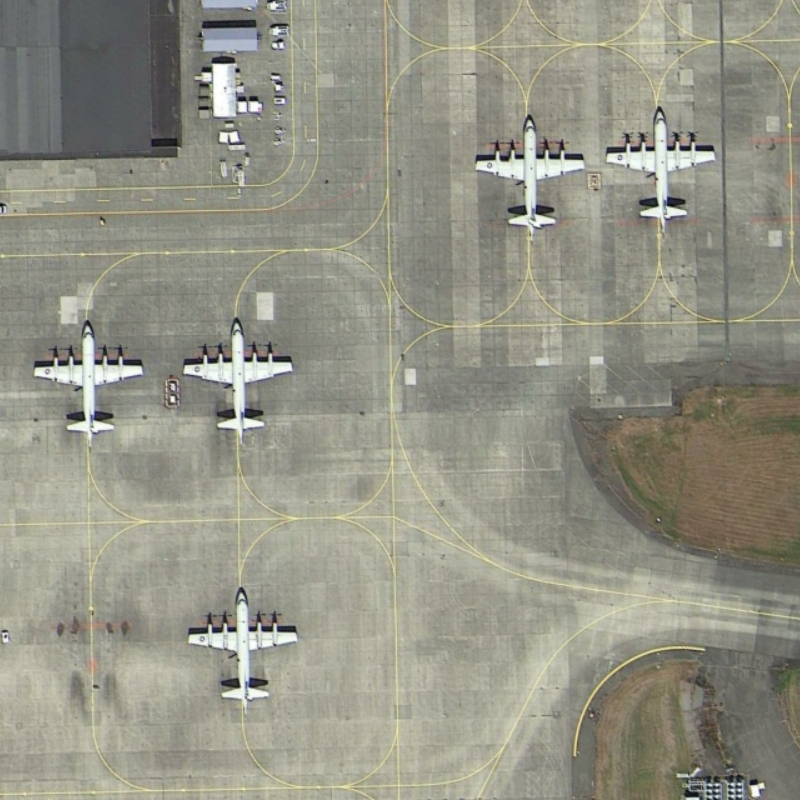A9: (176, 308, 300, 455), (176, 580, 304, 720), (599, 92, 721, 238), (29, 312, 154, 454), (463, 105, 590, 243)
